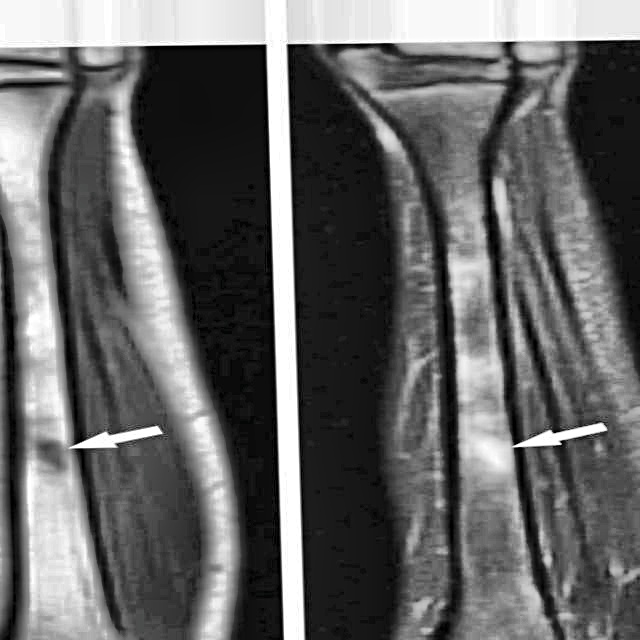Oblique Displaced: (18, 428, 74, 485), (461, 431, 515, 474)
